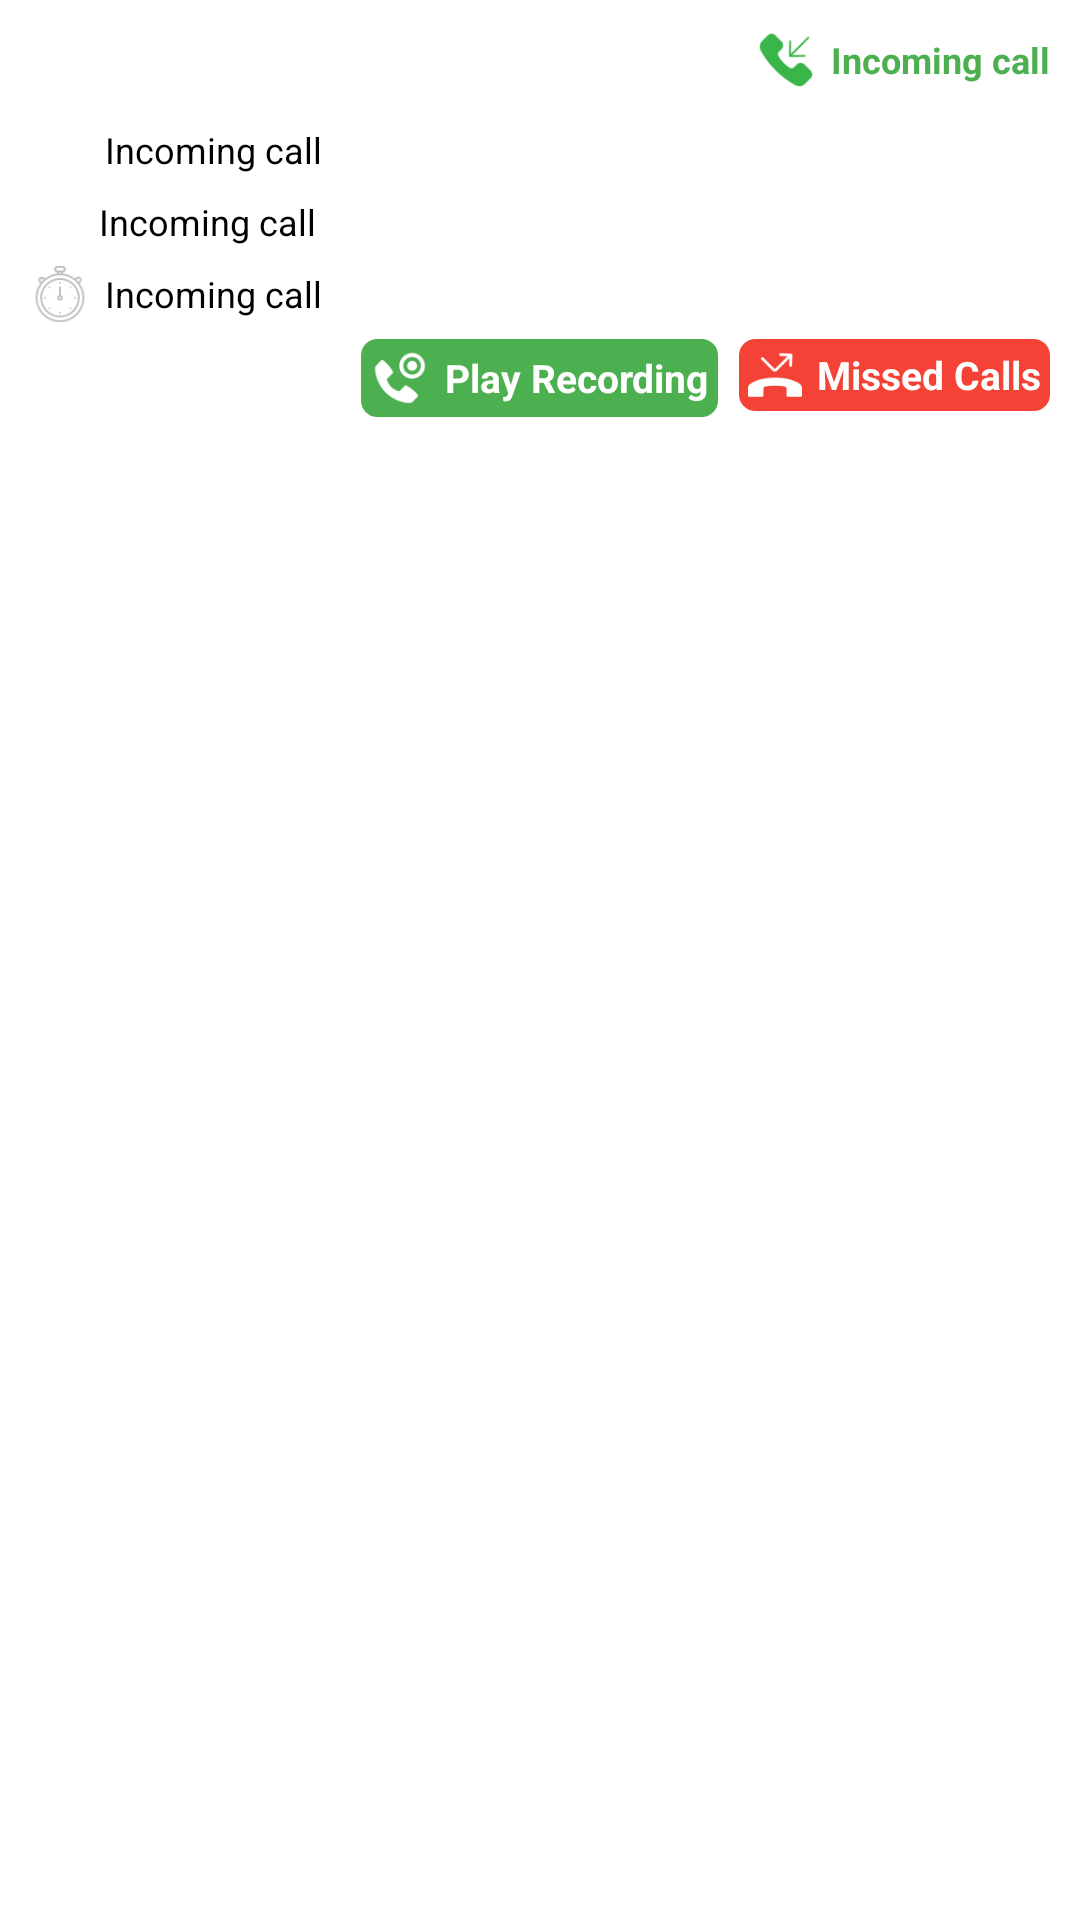

Icons on this 1080*1920 Android screen, each with its box as [left=x1, top=y1, right=x2, bottom=y2]:
time: [left=36, top=266, right=84, bottom=322]
